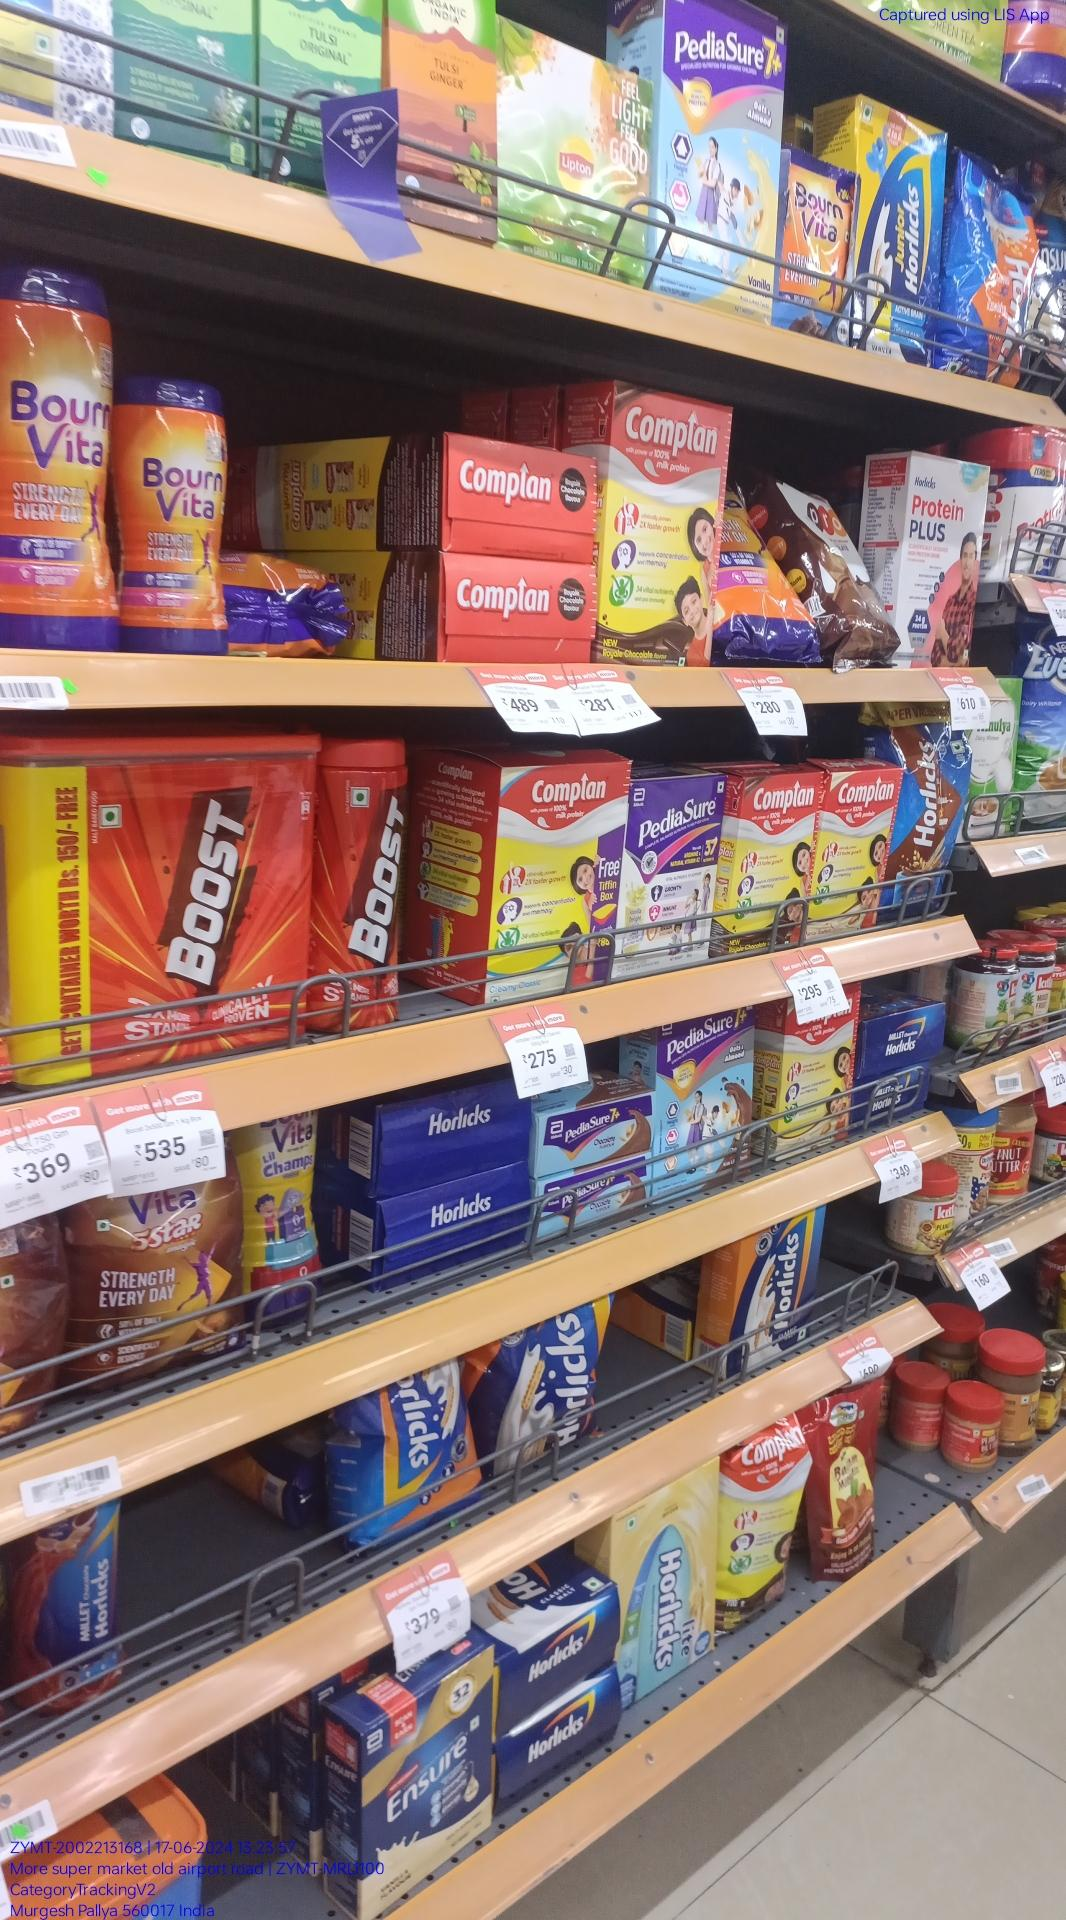BOURN_VITA_200_G_JAR: (121, 371, 231, 655)
BOURN_VITA_500_G_JAR: (1, 260, 113, 648)
BOURN_VITA_CHAMPS_500_G_JAR: (252, 1109, 318, 1335)
BOURN_VITA_FIVE_STAR_MAGIC_500_G_POUCH: (75, 1180, 244, 1361)
COMPLAN_CHOCOLATE_500_GMS_PACK: (607, 386, 723, 660), (729, 772, 806, 942)
COMPLAN_CREAMY_CLASSIC_500_G_PACK: (484, 768, 621, 1004)
COMPLAN_KESAR_BADAM_500_GMS_PACK: (813, 766, 881, 928), (775, 1014, 851, 1159)
PEDIASURE_7_PLUS_CHOCOLATE_400_G_PACK: (655, 1025, 755, 1196)
